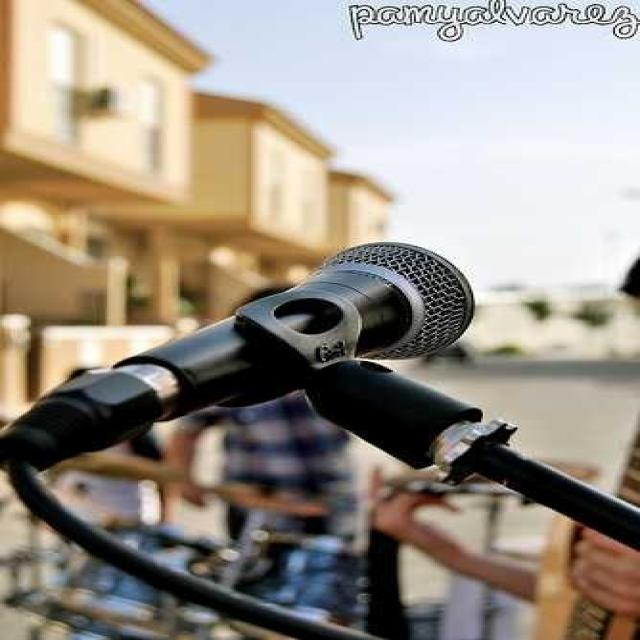microphone: (82, 222, 498, 440)
